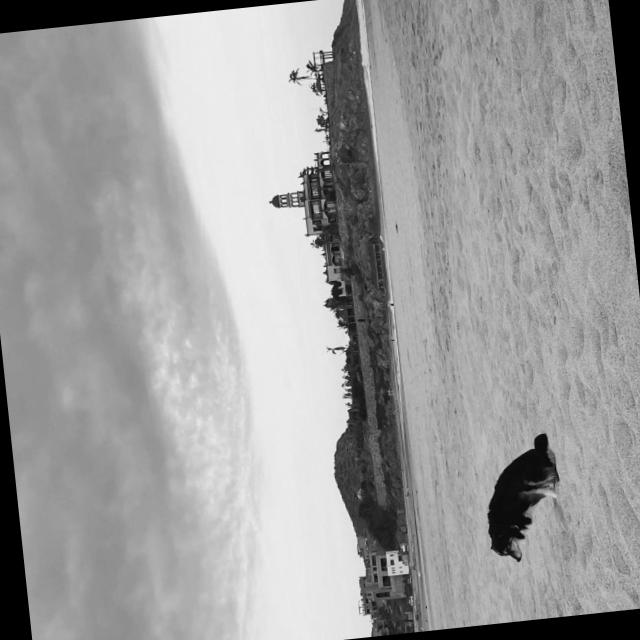squatting: (465, 427, 571, 568)
